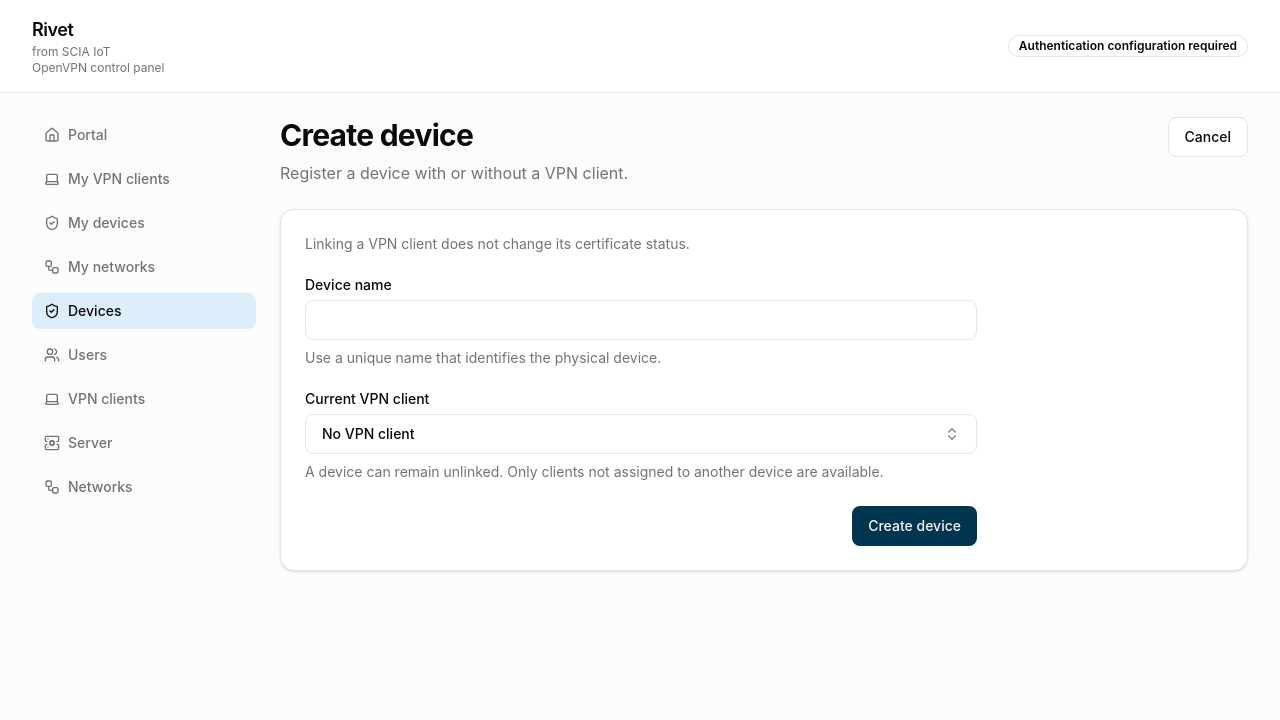
Test: device administration pages › shows duplicate names as a correctable field error
This screenshot has width=1280, height=720.
Type "Gateway" into the field labelled "Device name" at {"x": 641, "y": 320}, box [305,300,977,340]
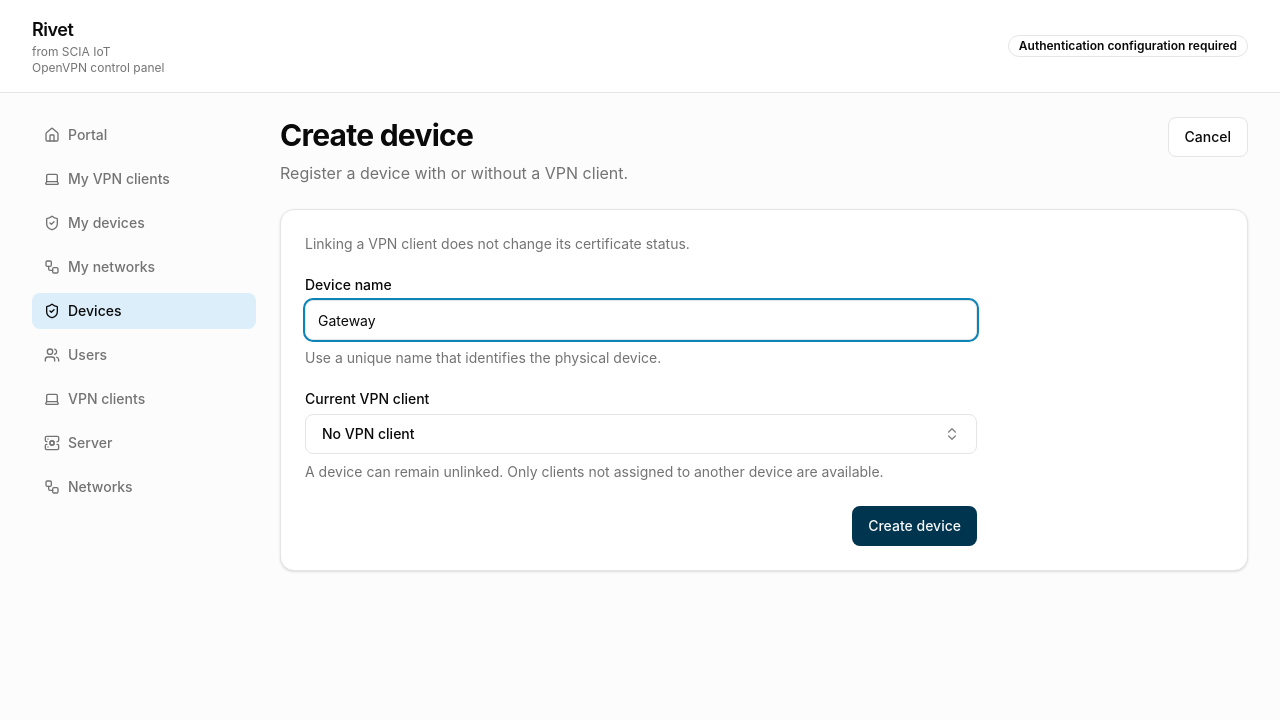
Click the button "Create device" at {"x": 915, "y": 526}, box [852,506,977,546]
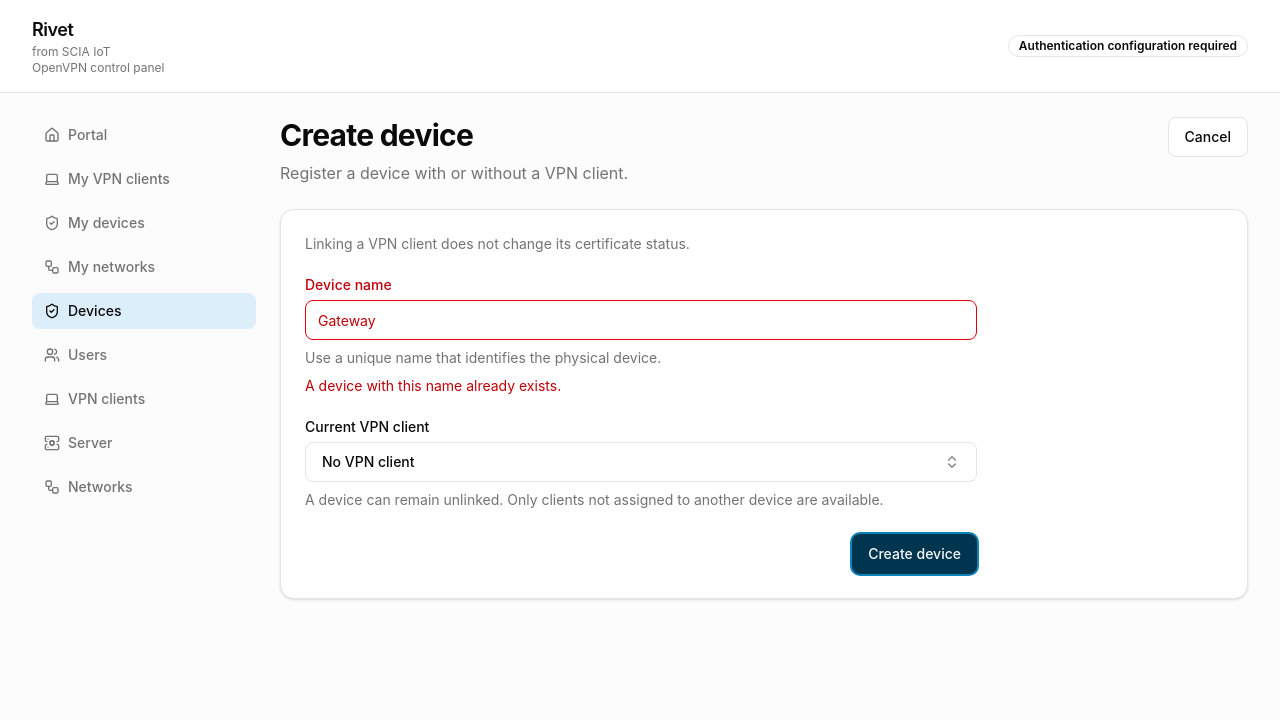
Result: the text "A device with this name already exists." is shown at [305,377,561,394]
